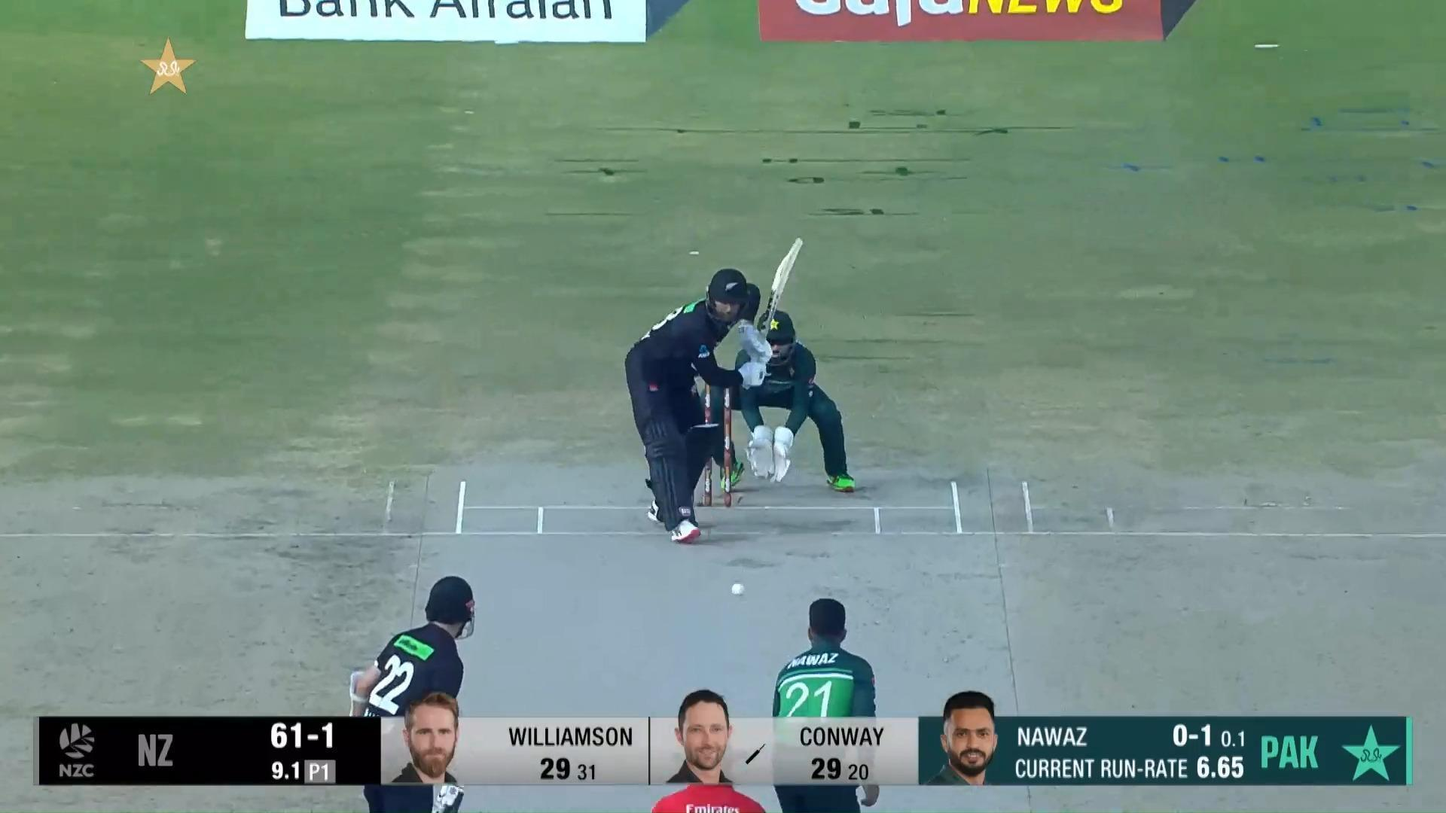BM 1: (624, 237, 803, 544)
BO: (772, 596, 881, 813)
